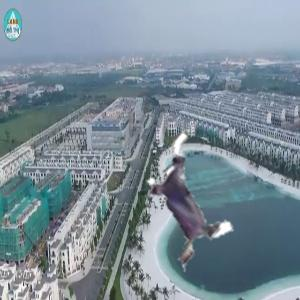drone: (114, 143, 251, 280)
